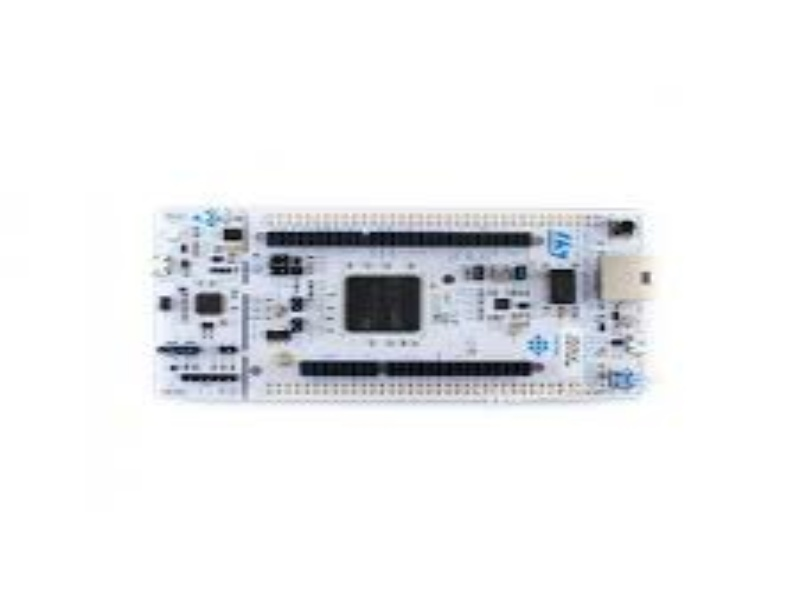stmnucleo: (143, 187, 663, 421)
